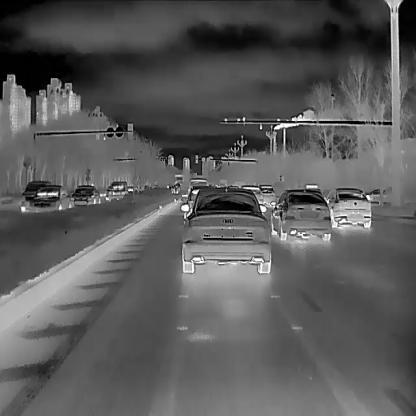car: (179, 188, 271, 273), (271, 188, 332, 242), (323, 187, 371, 228), (29, 186, 70, 218), (20, 181, 52, 210), (239, 184, 262, 211), (72, 184, 98, 205), (187, 180, 206, 206), (108, 180, 128, 199), (257, 185, 273, 208)
